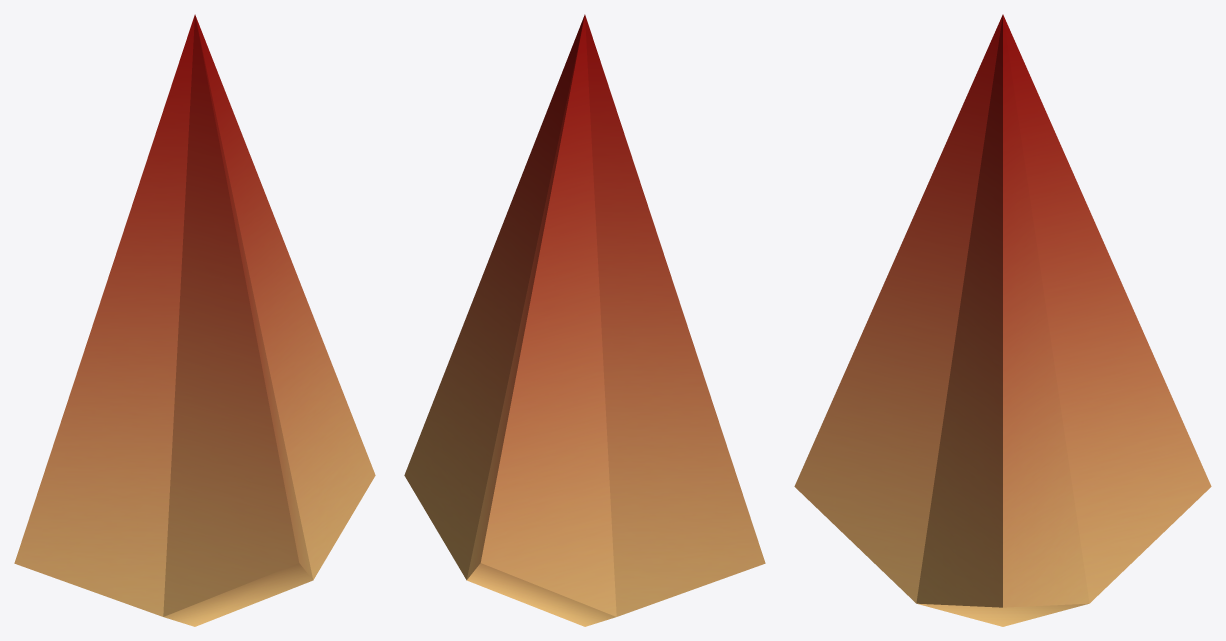
The model's file is Enemybullet.fbx.
3 views of the same model, side by side, from view 1: azimuth 30°, elevation 25°; view 2: azimuth 150°, elevation 25°; view 3: azimuth 270°, elevation 25° (orthographic).
Parts seen in each view (by area): view 1: Enemy; view 2: Enemy; view 3: Enemy.
Part boxes in pixels (bbox=[...]): Enemy: bbox=[14, 14, 375, 626]; Enemy: bbox=[404, 14, 765, 626]; Enemy: bbox=[794, 14, 1211, 626].
Bounding box in the file's own units: 1.41 × 2.29 × 1.41.
